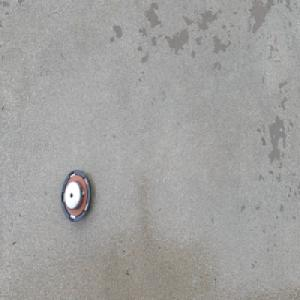FuelCap: (60, 164, 92, 222)
